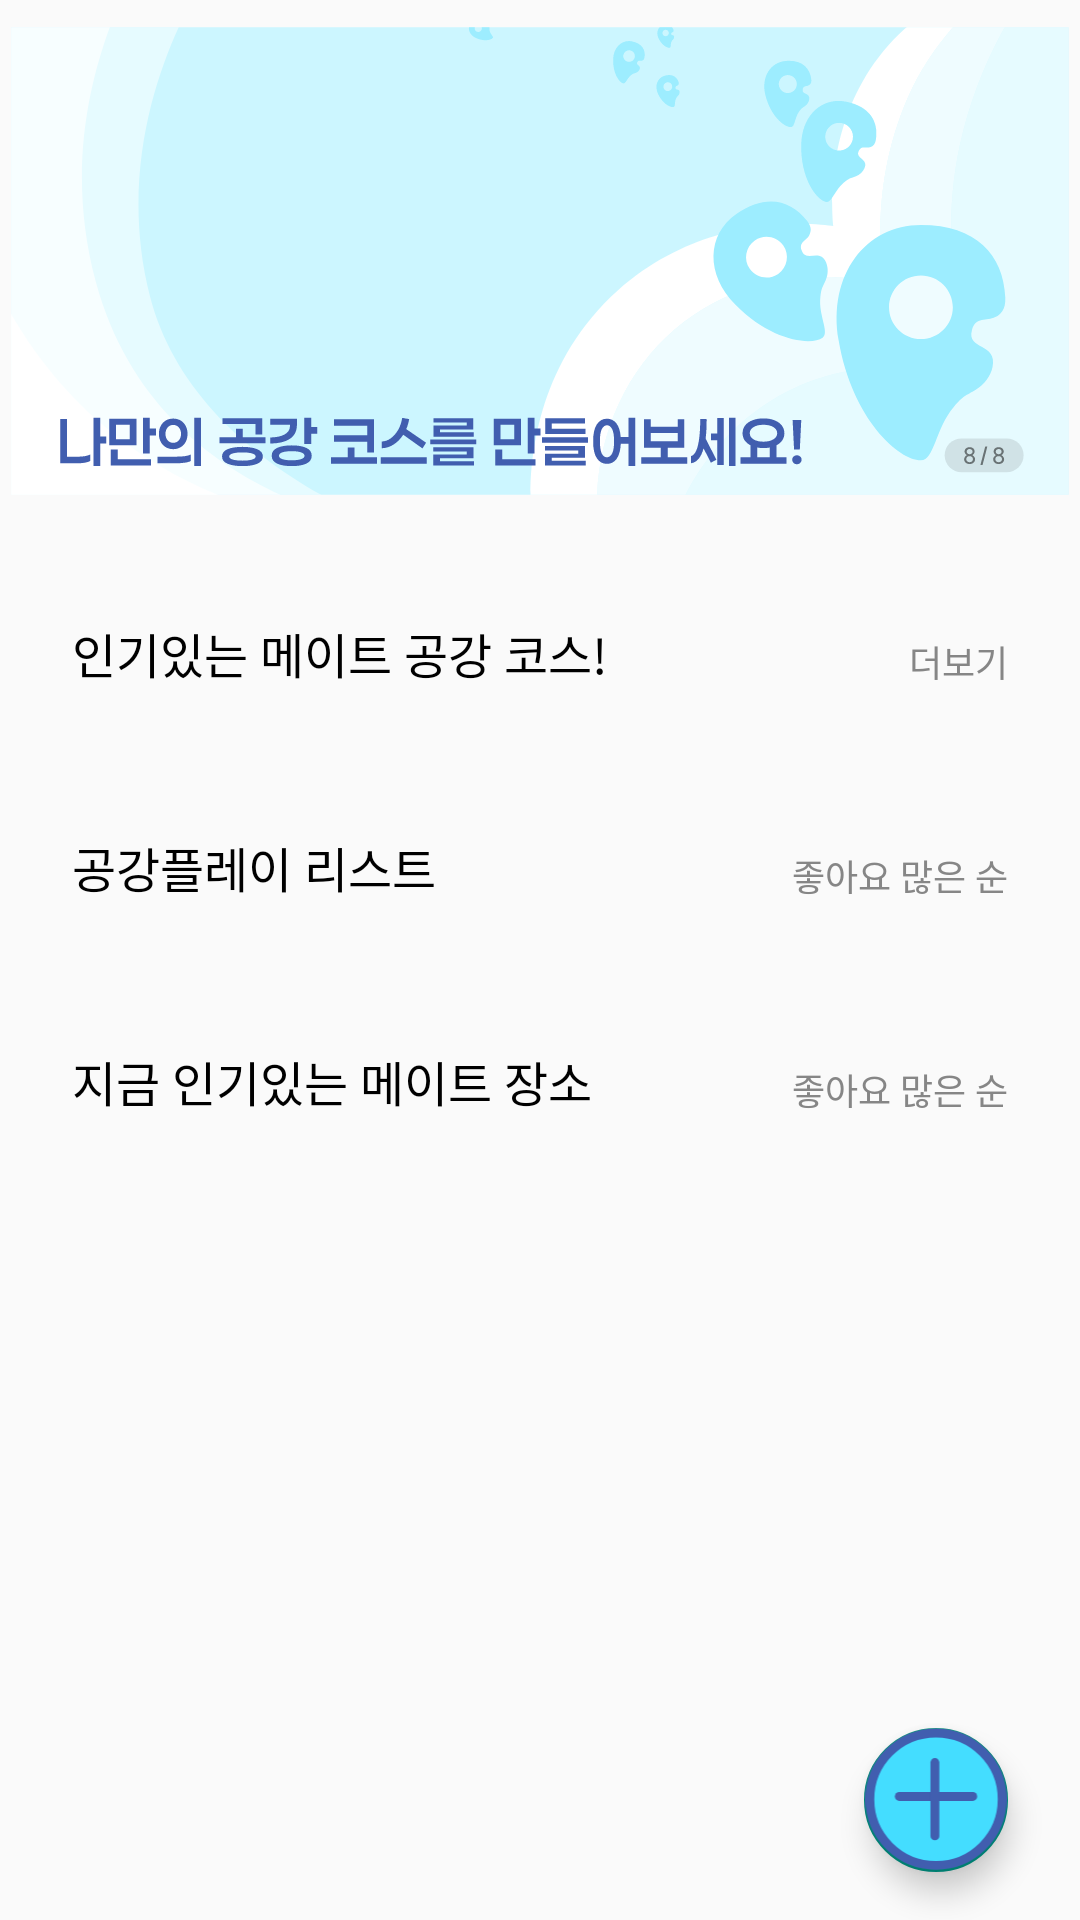

Where to tap for icons on this 1080 × 1920 app screen, as point (x, y):
add float: point (936, 1800)
